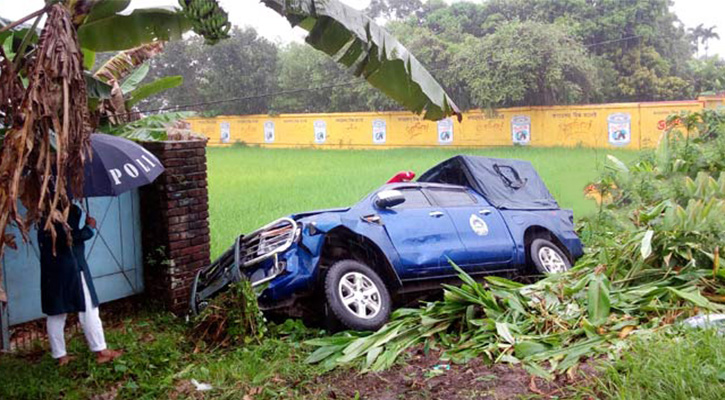policecar: (188, 152, 581, 331)
